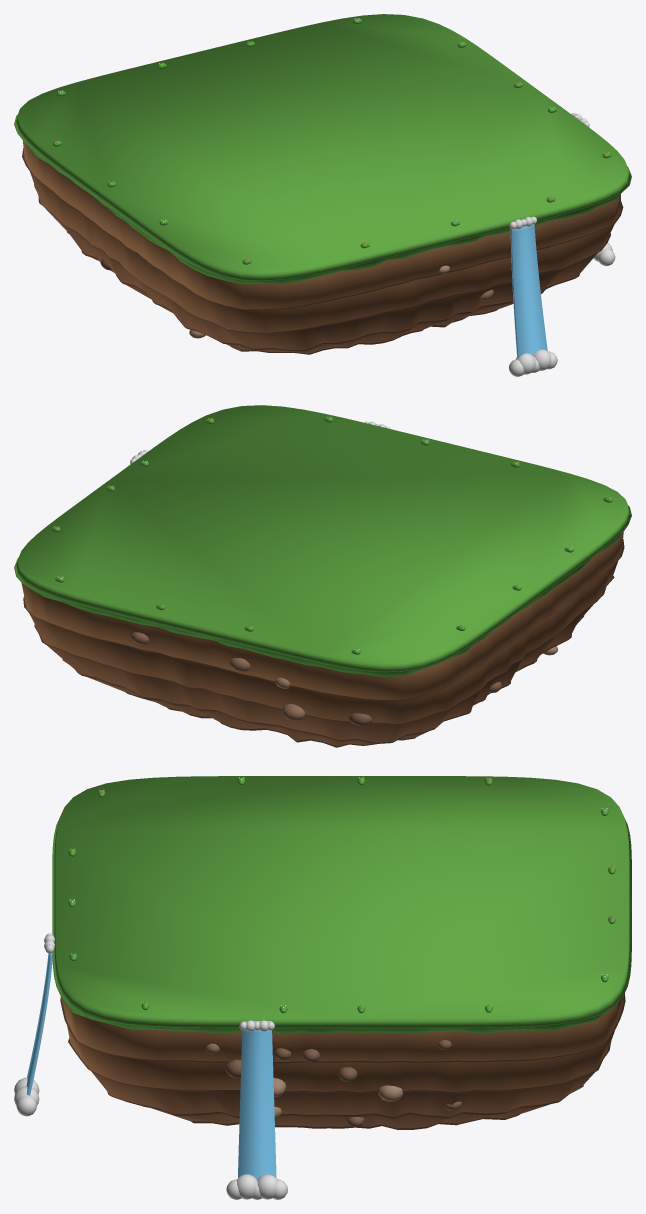
The model's file is island.glb.
3 views of the same model, one above another, from view 1: azimuth 30°, elevation 25°; view 2: azimuth 150°, elevation 25°; view 3: azimuth 270°, elevation 25° (orthographic). The views are drawn at different scales.
Parts seen in each view (by area): view 1: top; view 2: top; view 3: top.
Part boxes in pixels (x1,y1,x2,y2): top: (14, 14, 631, 376); top: (14, 405, 631, 747); top: (14, 776, 631, 1199).
Bounding box in the file's own units: 10.19 × 3.67 × 10.19.
